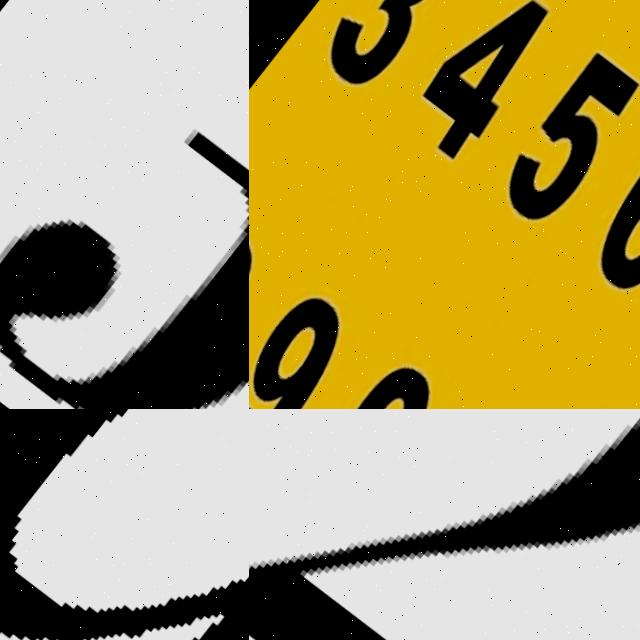0: (269, 314, 492, 409)
2: (249, 409, 640, 640)
3: (0, 0, 249, 409), (284, 0, 511, 127)
4: (373, 0, 591, 194)
5: (457, 8, 640, 267)
6: (548, 67, 640, 335)
8: (249, 181, 306, 409)
9: (249, 251, 395, 409)
A: (0, 409, 249, 640)
